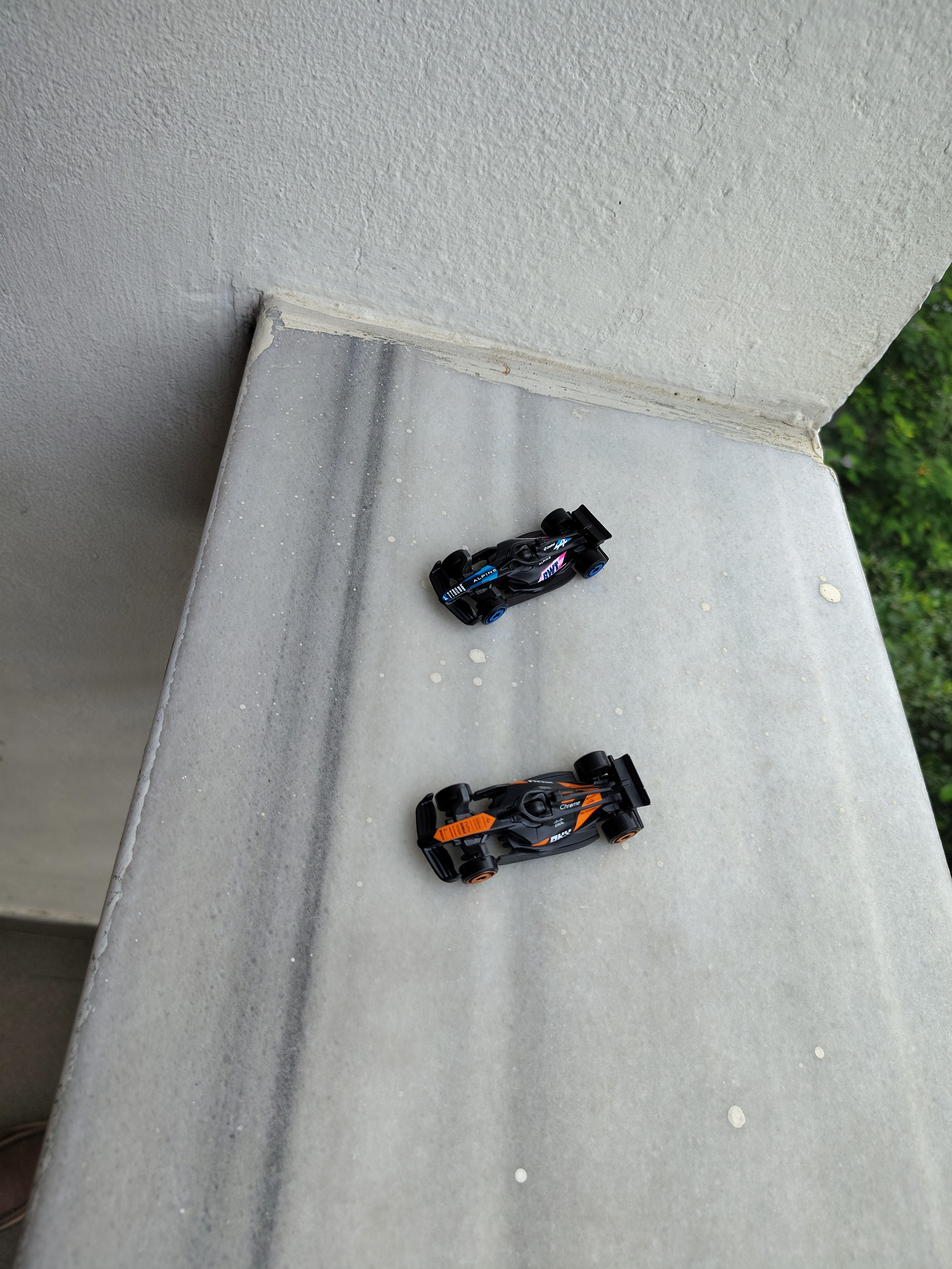Alpine A524: (383, 477, 646, 637)
McLaren MCL40: (356, 727, 719, 917)
